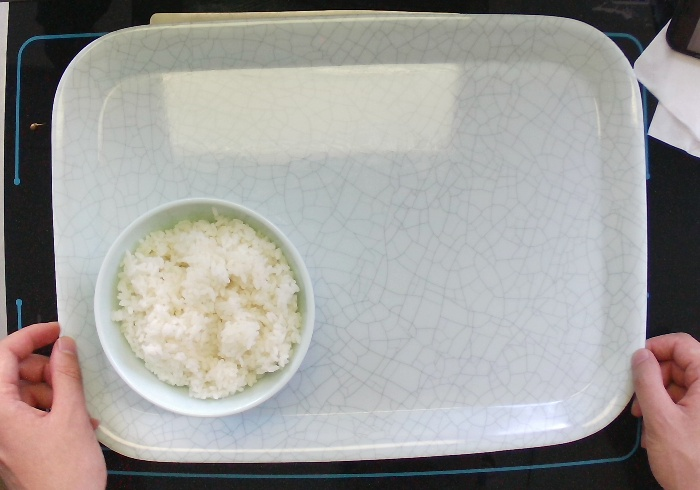JYsf-Fan_Wan: (87, 191, 323, 424)
